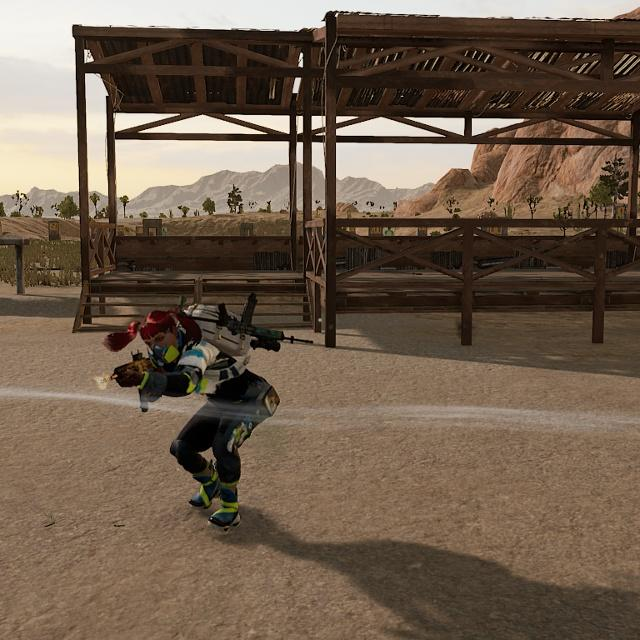head: (132, 302, 188, 366)
people: (112, 298, 289, 536)
